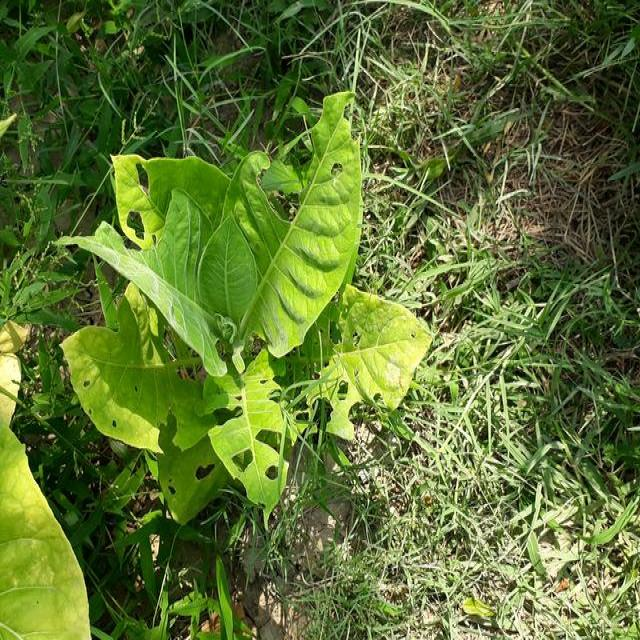crop: (53, 90, 434, 516)
